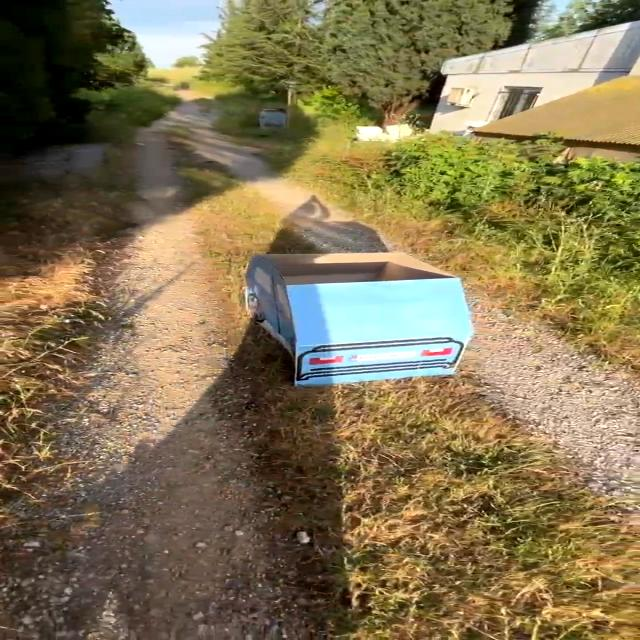blue_car: (201, 234, 505, 427)
